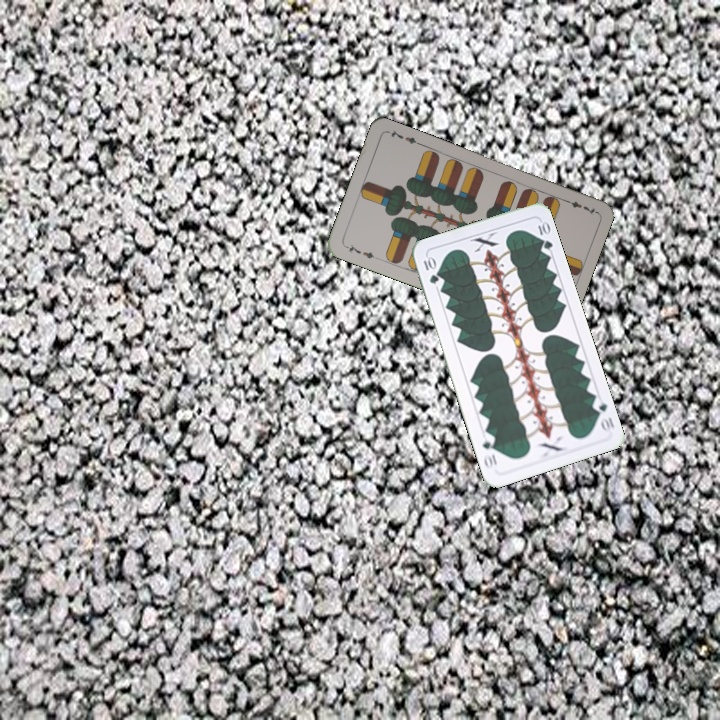E7: (560, 195, 599, 218), (341, 240, 380, 262)
G10: (588, 394, 617, 434), (419, 253, 441, 287)
